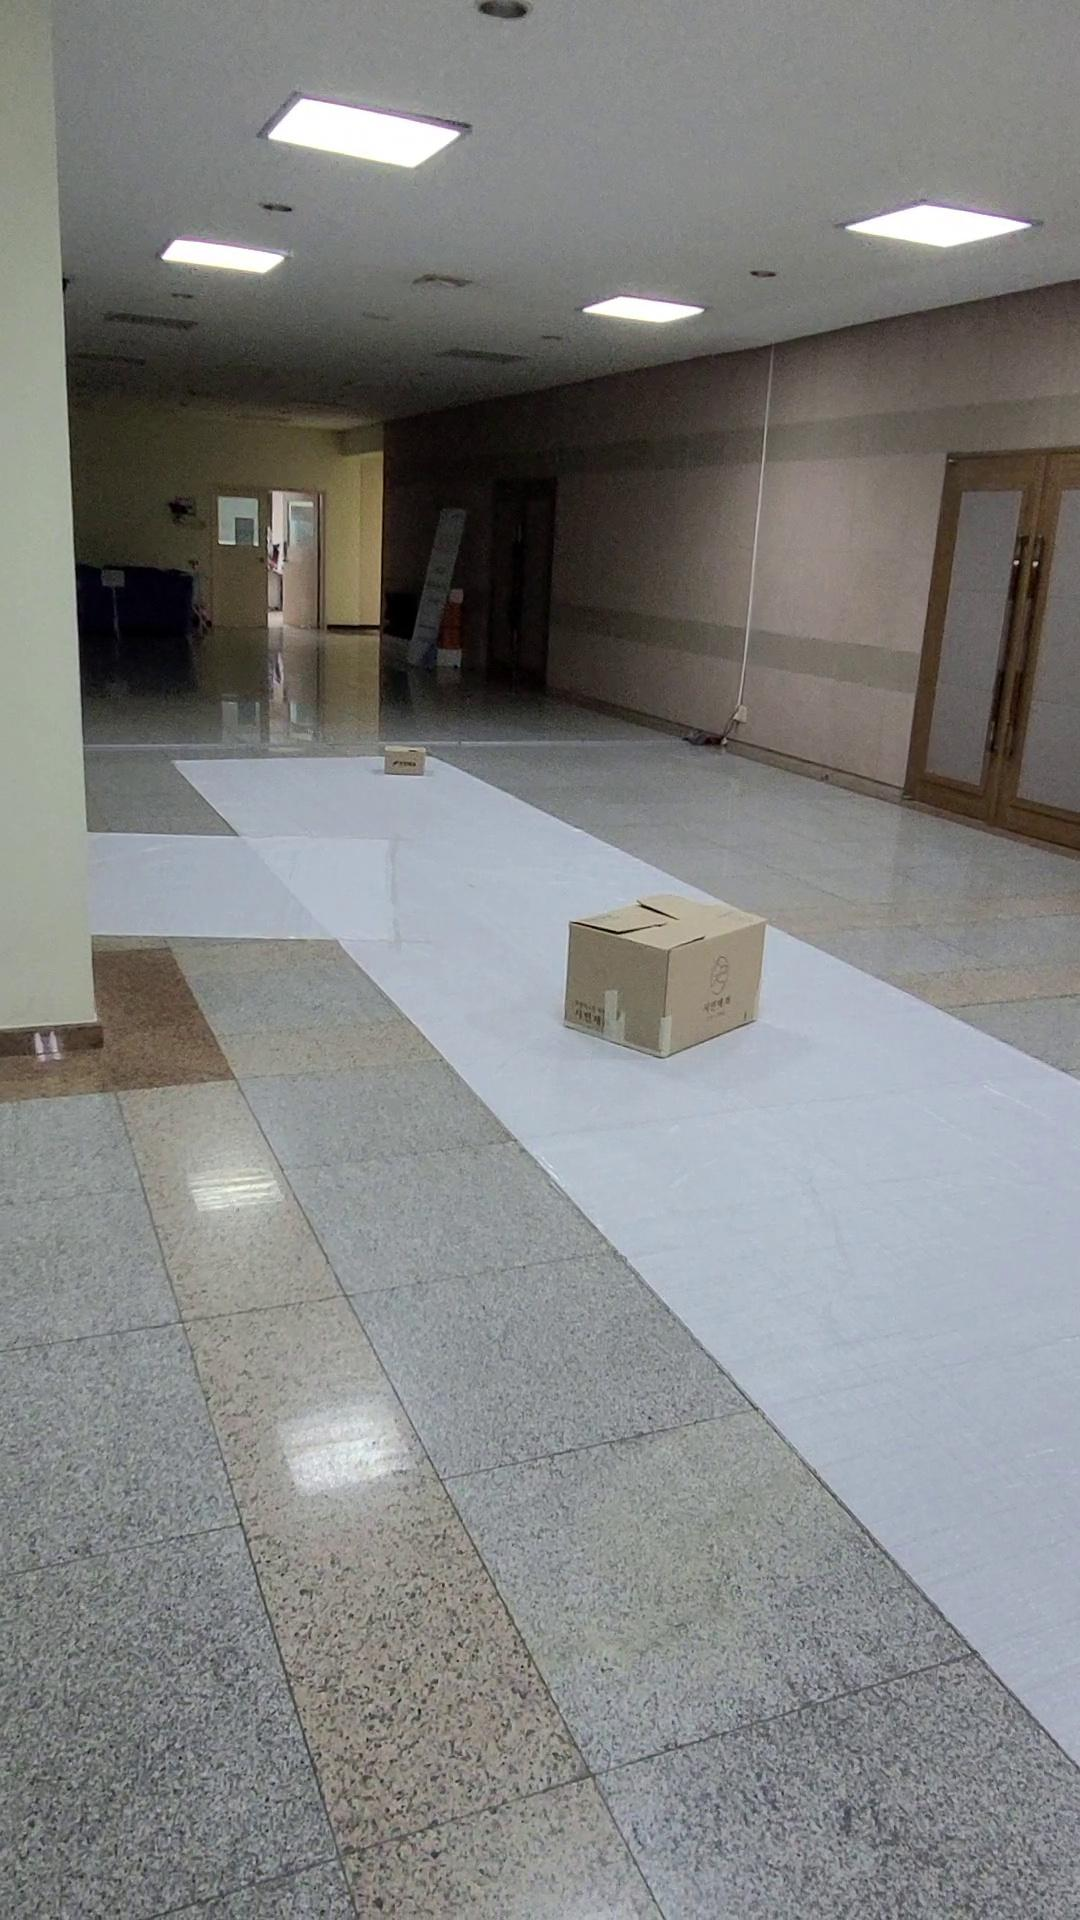Box: (551, 873, 781, 1063), (381, 733, 435, 781)
